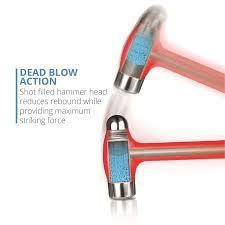hammer: (100, 113, 224, 201), (111, 2, 224, 95)
